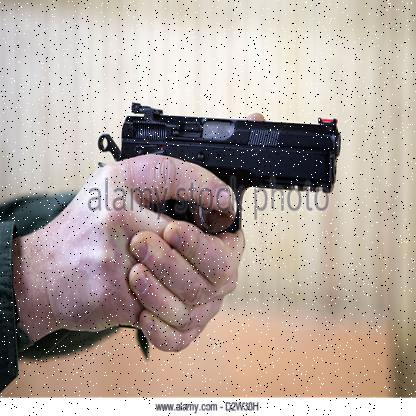pistol: (105, 113, 345, 330)
